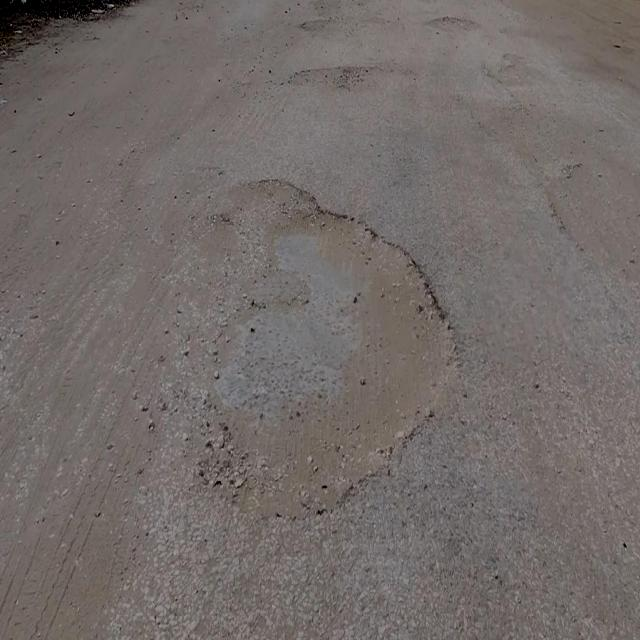Potholes: (190, 176, 463, 535)
